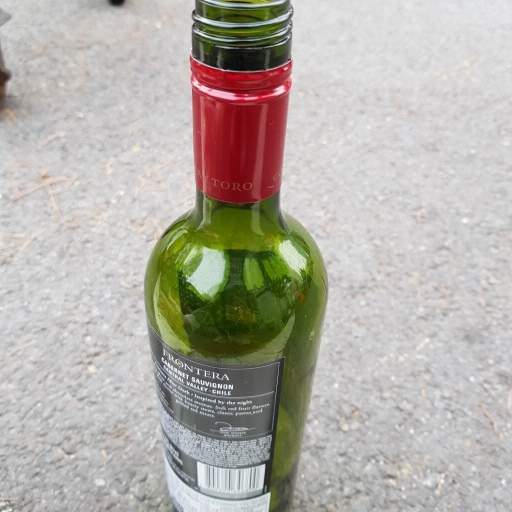Glass_2: (145, 1, 329, 512)
